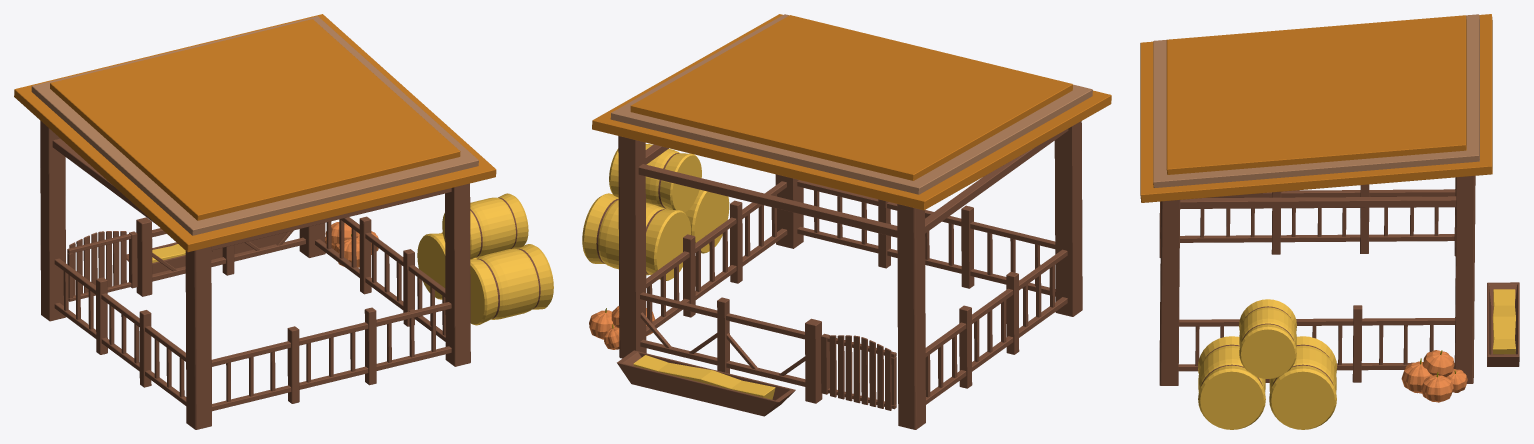
File: gubuk2.fbx
The picture shows the model from 3 angles, left to right: view 1: azimuth 30°, elevation 25°; view 2: azimuth 150°, elevation 25°; view 3: azimuth 270°, elevation 25°; orthographic projection. The views are drawn at different scales.
Parts seen in each view (by area): view 1: Plane.004, Cylinder, Cylinder.002, Cylinder.001; view 2: Plane.004, Cylinder.001, Cylinder.002, Cylinder, Cylinder.014; view 3: Plane.004, Cylinder, Cylinder.001, Cylinder.002, Cylinder.014, Cylinder.015, Cylinder.012.
Part boxes in pixels (box(x1,y1,x2,y2)): Plane.004: box(14, 14, 496, 429); Cylinder: box(470, 244, 553, 325); Cylinder.002: box(442, 193, 528, 259); Cylinder.001: box(417, 232, 476, 299); Plane.004: box(592, 14, 1111, 429); Cylinder.001: box(582, 193, 691, 280); Cylinder.002: box(609, 144, 701, 212); Cylinder: box(665, 189, 729, 253); Cylinder.014: box(589, 308, 614, 339); Plane.004: box(1140, 14, 1519, 385); Cylinder: box(1198, 336, 1265, 429); Cylinder.001: box(1269, 336, 1337, 429); Cylinder.002: box(1239, 299, 1296, 378); Cylinder.014: box(1421, 372, 1453, 402); Cylinder.015: box(1422, 350, 1454, 376); Cylinder.012: box(1401, 358, 1432, 393).
Bounding box in the file's own units: 249 × 141 × 204.
